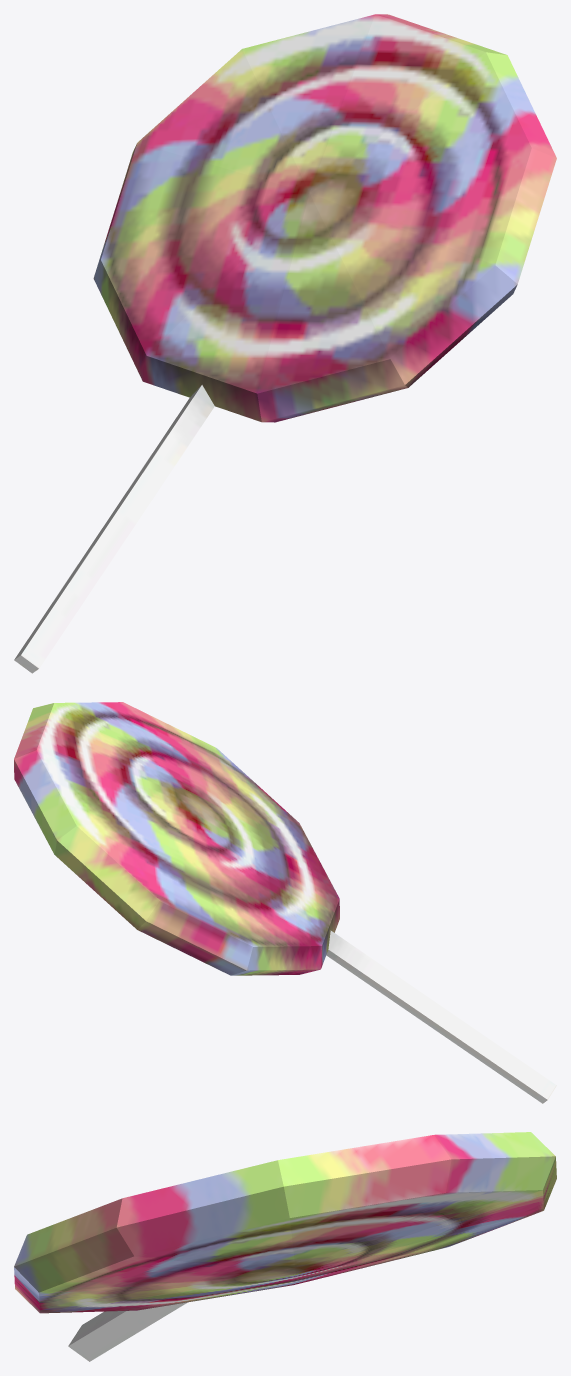
The model's file is Wolf_lollipop.obj.
3 views of the same model, one above another, from view 1: azimuth 30°, elevation 25°; view 2: azimuth 150°, elevation 25°; view 3: azimuth 270°, elevation 25° (orthographic). The views are drawn at different scales.
Visible parts, largest first — view 1: Wolf_lollipop_tri; view 2: Wolf_lollipop_tri; view 3: Wolf_lollipop_tri.
Part boxes in pixels (bbox=[...]): Wolf_lollipop_tri: bbox=[14, 14, 556, 673]; Wolf_lollipop_tri: bbox=[14, 702, 556, 1103]; Wolf_lollipop_tri: bbox=[14, 1132, 556, 1361].
Size of the model in its own units: 0.2043 by 0.1474 by 0.1429.
Materials: 1 (1 with a texture image).
